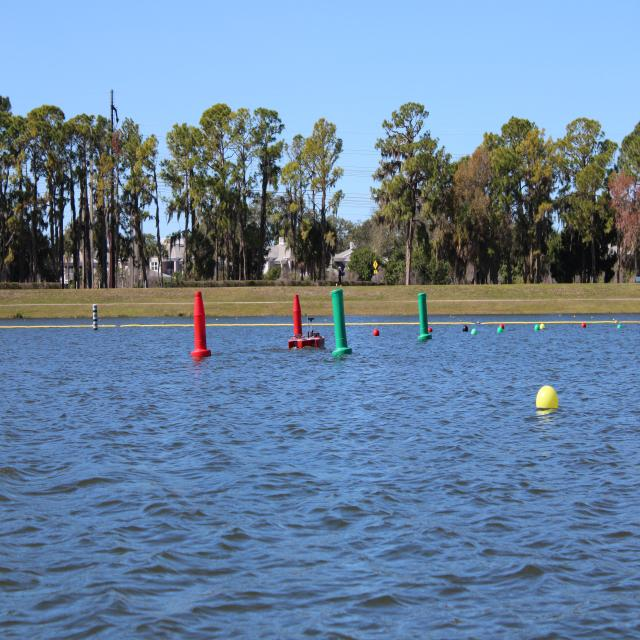green-buoy: (471, 328, 477, 335), (537, 326, 542, 334), (497, 327, 503, 333)
green-column-buoy: (333, 290, 353, 358), (418, 291, 431, 340)
red-buoy: (581, 325, 585, 331)
red-column-buoy: (193, 290, 211, 358), (289, 296, 307, 355)
yellow-buoy: (537, 382, 561, 408)
